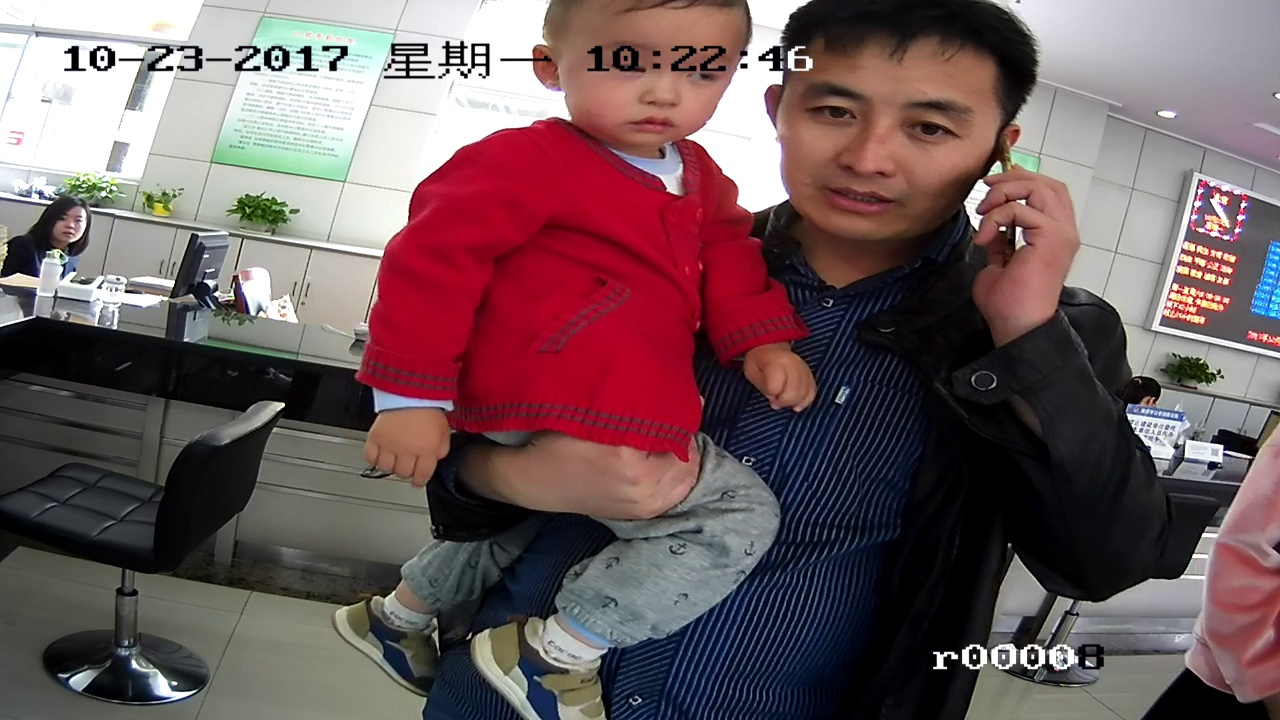billboard: (234, 22, 370, 176)
chair: (11, 399, 285, 697)
monitor: (1161, 172, 1264, 359)
person: (757, 5, 1041, 476), (541, 2, 735, 171), (32, 199, 90, 256)
pot: (1157, 339, 1223, 392), (232, 190, 296, 234), (67, 176, 123, 209), (139, 191, 186, 223)
